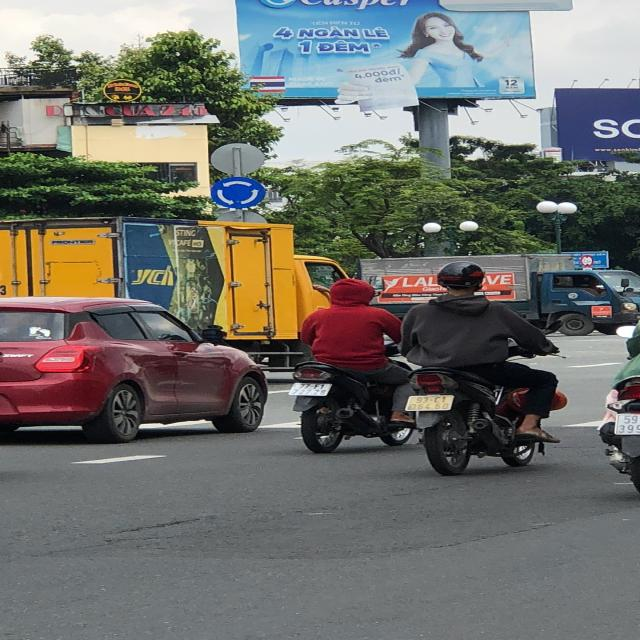Bien bao noi giao nhau chay theo vong xuyen: (206, 175, 268, 209)
